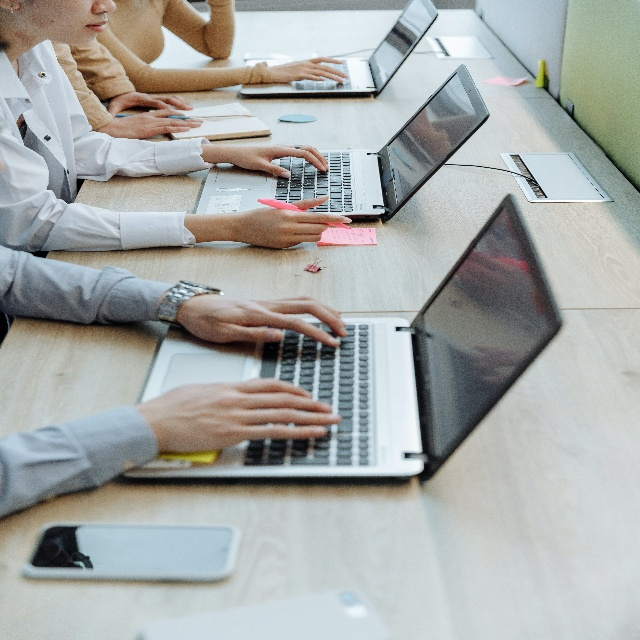Sin_guantes: (153, 373, 343, 453), (176, 292, 348, 348), (249, 196, 352, 250), (233, 142, 331, 180), (269, 53, 349, 89), (117, 107, 204, 140), (106, 87, 195, 113)
